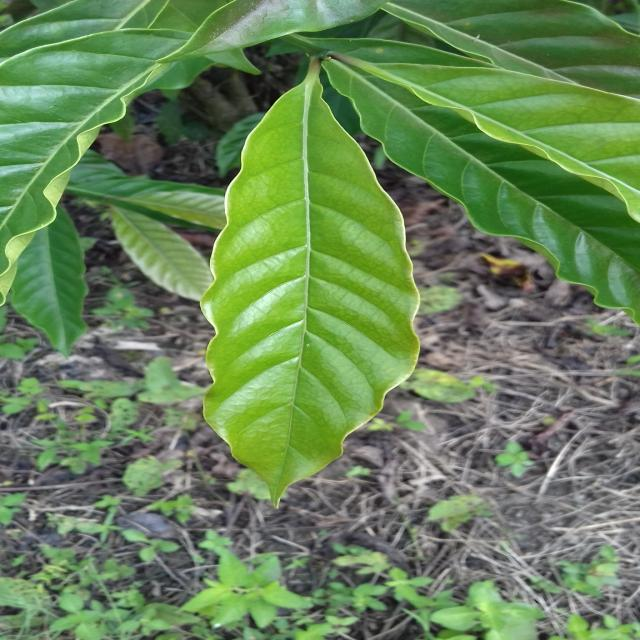Sanas: (199, 75, 420, 506)
